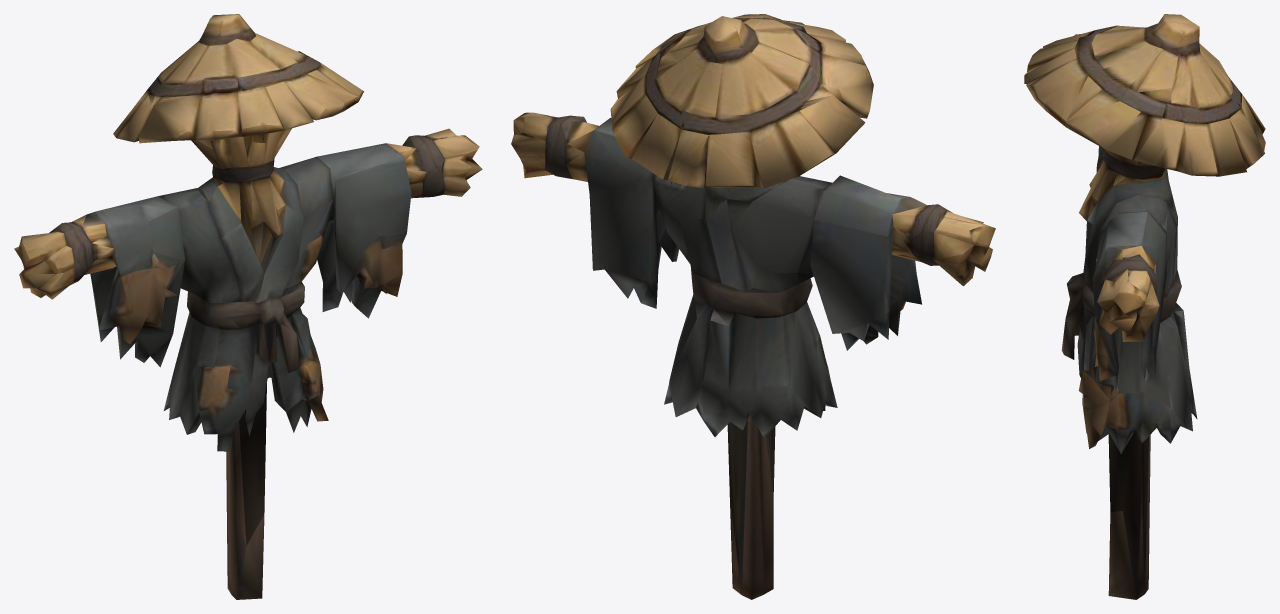
The model's file is scarecrow.glb.
3 views of the same model, side by side, from view 1: azimuth 30°, elevation 25°; view 2: azimuth 150°, elevation 25°; view 3: azimuth 270°, elevation 25° (orthographic). The views are drawn at different scales.
Visible parts, largest first — view 1: tripo_node_a5dc4763-7977-4c93-8062-5deb5b33a9a4; view 2: tripo_node_a5dc4763-7977-4c93-8062-5deb5b33a9a4; view 3: tripo_node_a5dc4763-7977-4c93-8062-5deb5b33a9a4.
Part boxes in pixels (bbox=[...]): tripo_node_a5dc4763-7977-4c93-8062-5deb5b33a9a4: bbox=[14, 14, 482, 599]; tripo_node_a5dc4763-7977-4c93-8062-5deb5b33a9a4: bbox=[511, 14, 995, 599]; tripo_node_a5dc4763-7977-4c93-8062-5deb5b33a9a4: bbox=[1024, 14, 1265, 599].
Size of the model in its own units: 0.8262 by 0.9788 by 0.3715.
Materials: 1 (1 with a texture image).
